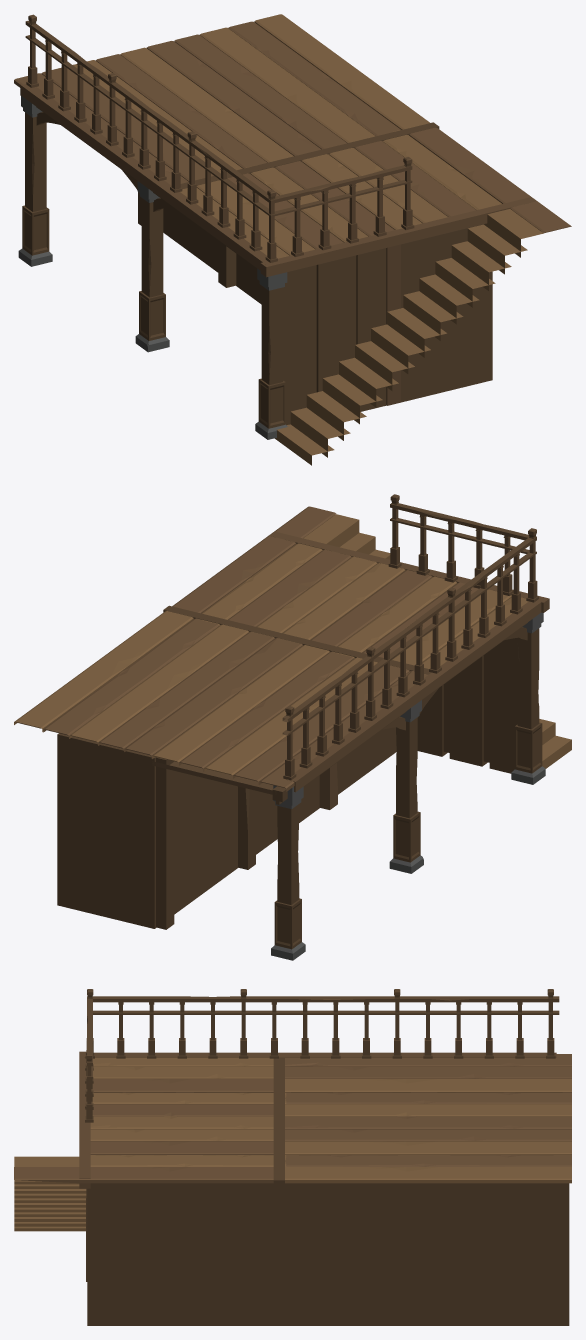
Rendered from SFHW_Building_Stairs_001.fbx.
3 views of the same model, one above another, from view 1: azimuth 30°, elevation 25°; view 2: azimuth 150°, elevation 25°; view 3: azimuth 270°, elevation 25° (orthographic). The views are drawn at different scales.
Visible parts, largest first — view 1: SFHW_Building_Stairs_001; view 2: SFHW_Building_Stairs_001; view 3: SFHW_Building_Stairs_001.
Part boxes in pixels (left/top/right/bottom): SFHW_Building_Stairs_001: left=14, top=14, right=571, bottom=465; SFHW_Building_Stairs_001: left=14, top=494, right=571, bottom=960; SFHW_Building_Stairs_001: left=14, top=989, right=571, bottom=1325.
Size of the model in its own units: 483 by 415 by 885.
